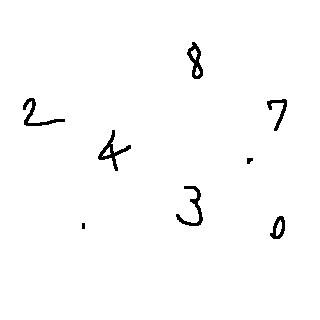.: (76, 215, 95, 234), (243, 154, 258, 171)
0: (270, 207, 292, 257)
2: (17, 87, 74, 134)
3: (172, 178, 219, 231)
4: (97, 125, 140, 178)
7: (263, 89, 292, 139)
8: (182, 41, 208, 83)
